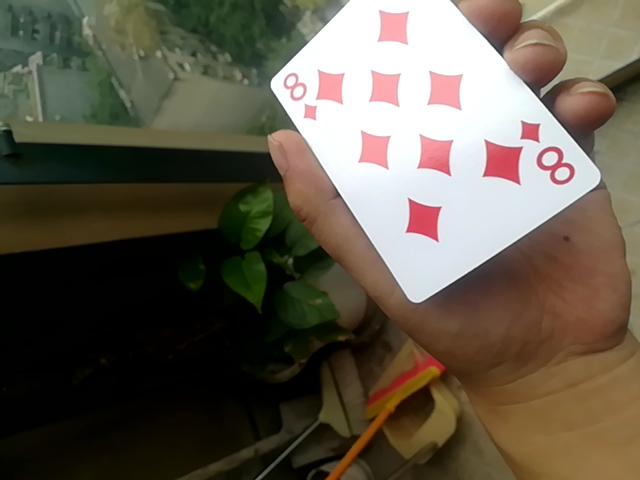fk 8: (263, 2, 619, 308)
